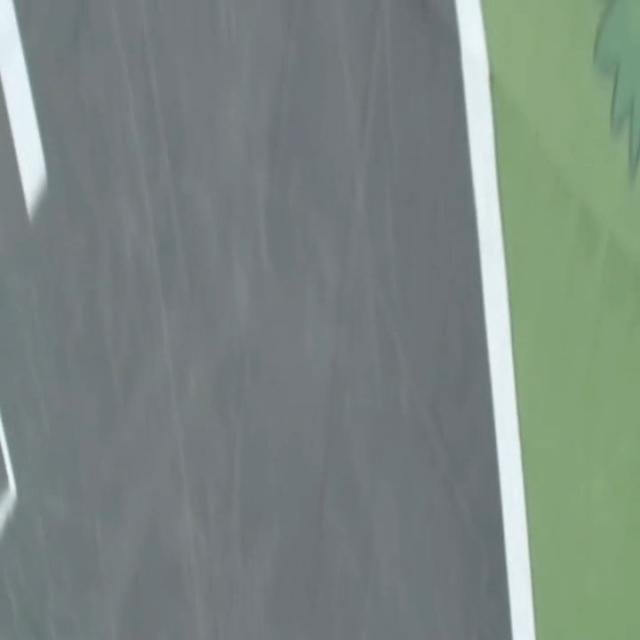right: (455, 0, 535, 639)
